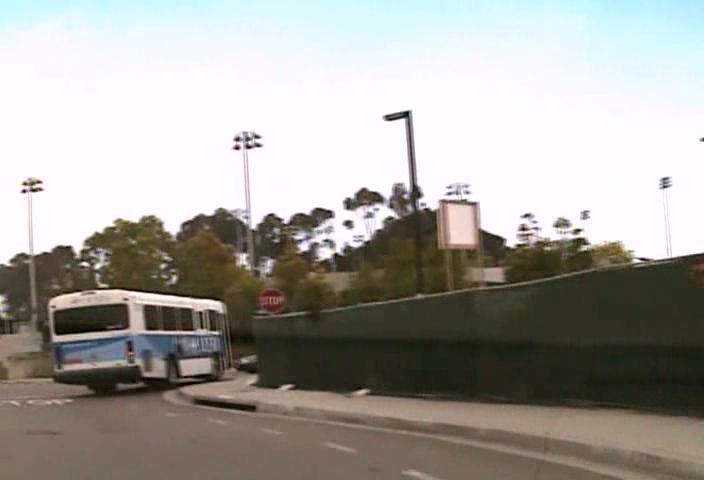stop: (258, 287, 285, 314)
